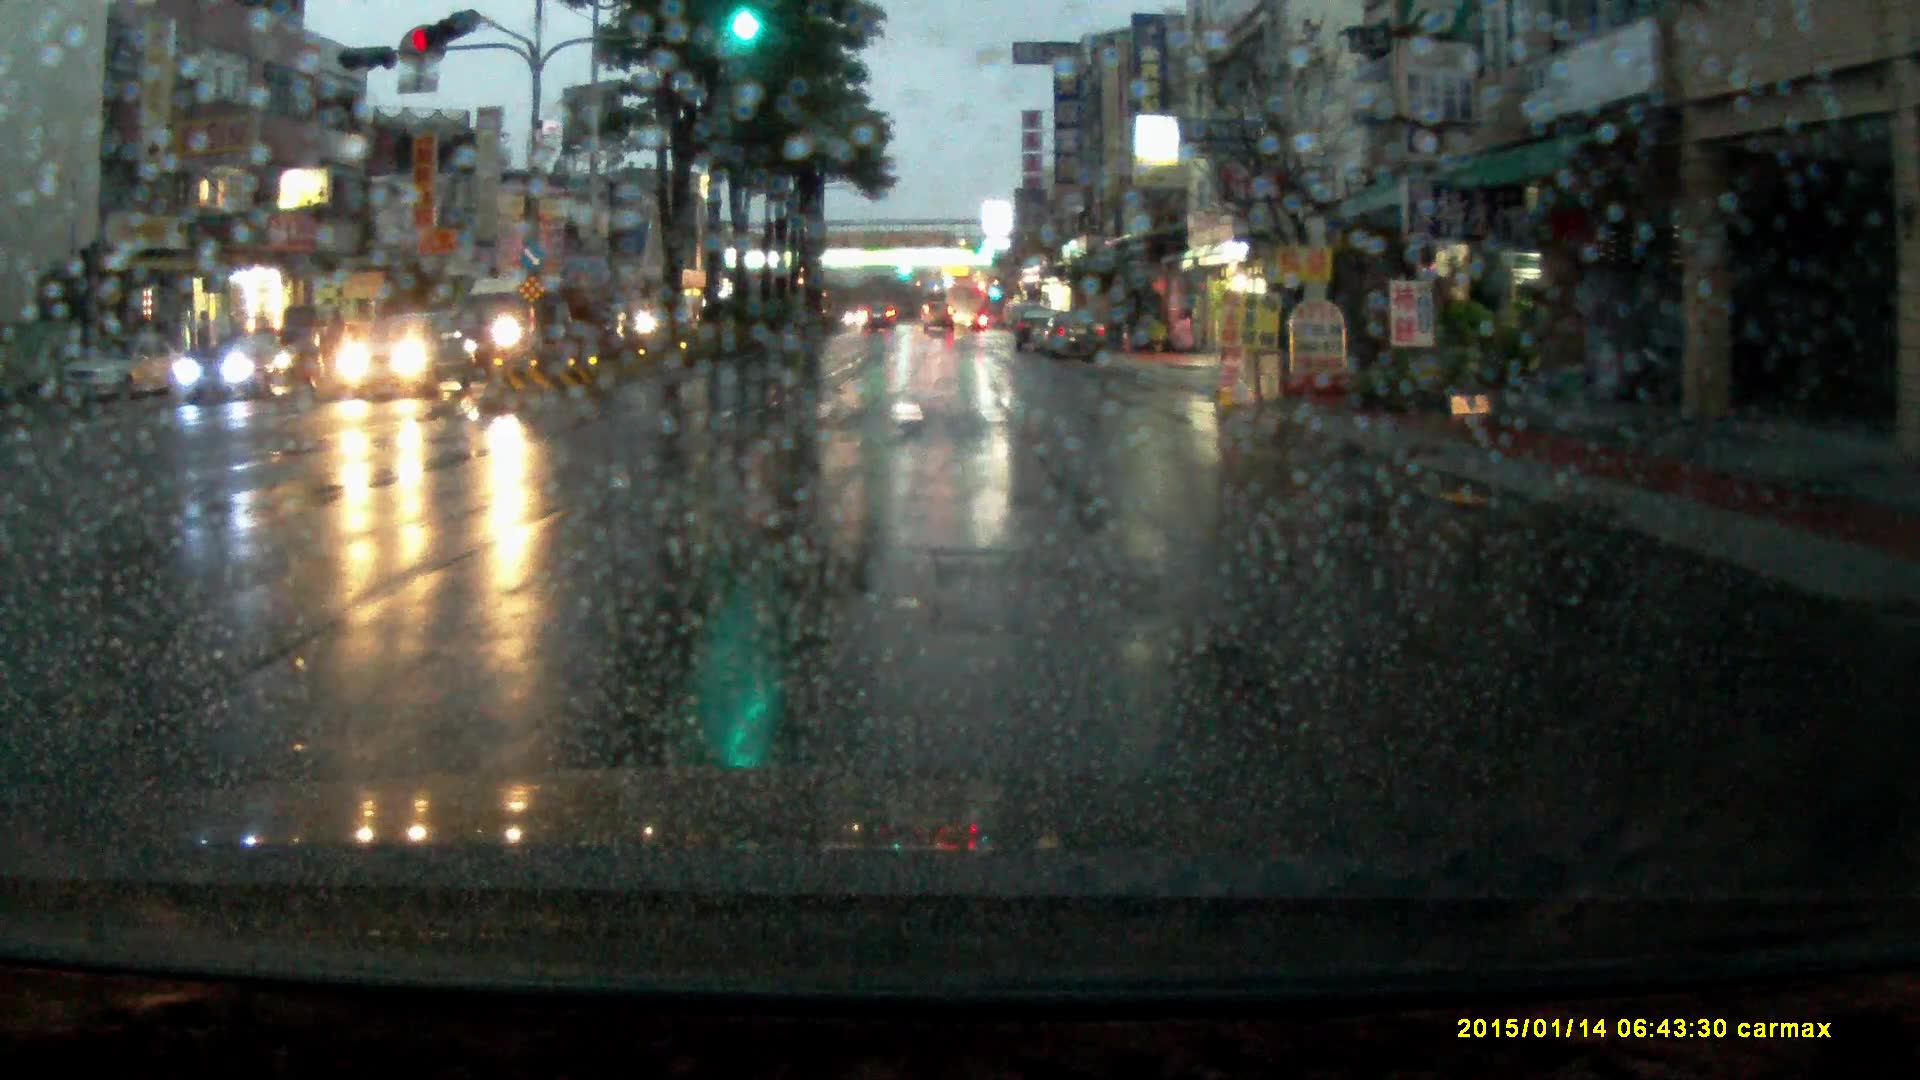vehicle: (451, 270, 576, 375), (171, 324, 323, 402), (340, 316, 469, 404), (58, 332, 196, 405), (1042, 307, 1113, 357), (1014, 305, 1062, 352), (951, 280, 989, 332), (924, 298, 957, 334), (862, 295, 899, 327)
